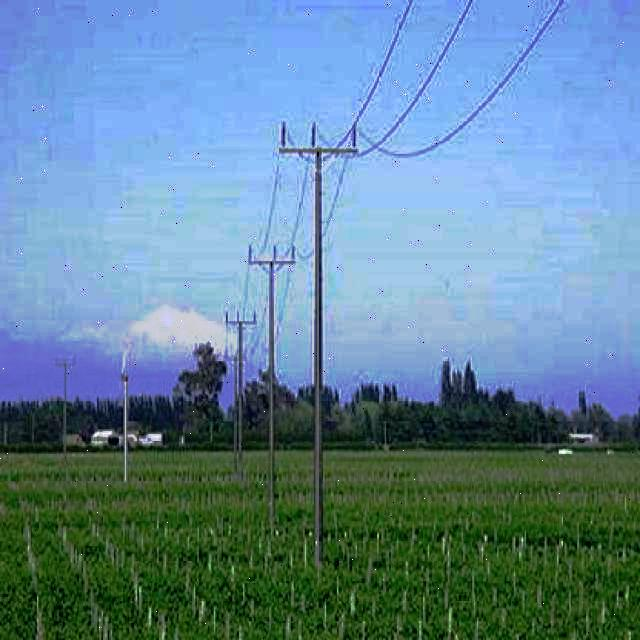poles: (278, 124, 358, 566)
wires: (365, 5, 570, 169), (351, 9, 478, 163), (319, 2, 420, 149)
